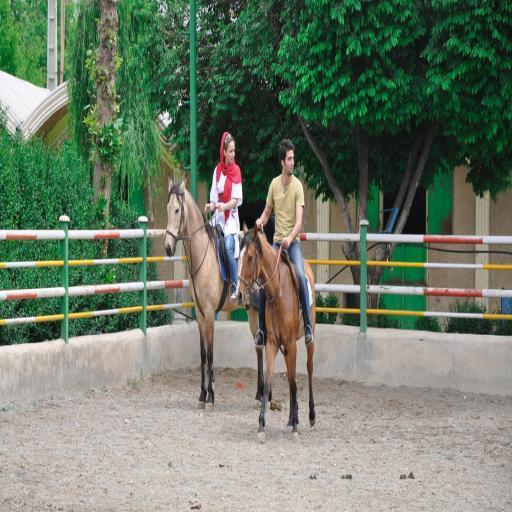horse: (162, 172, 272, 414), (233, 222, 317, 444)
